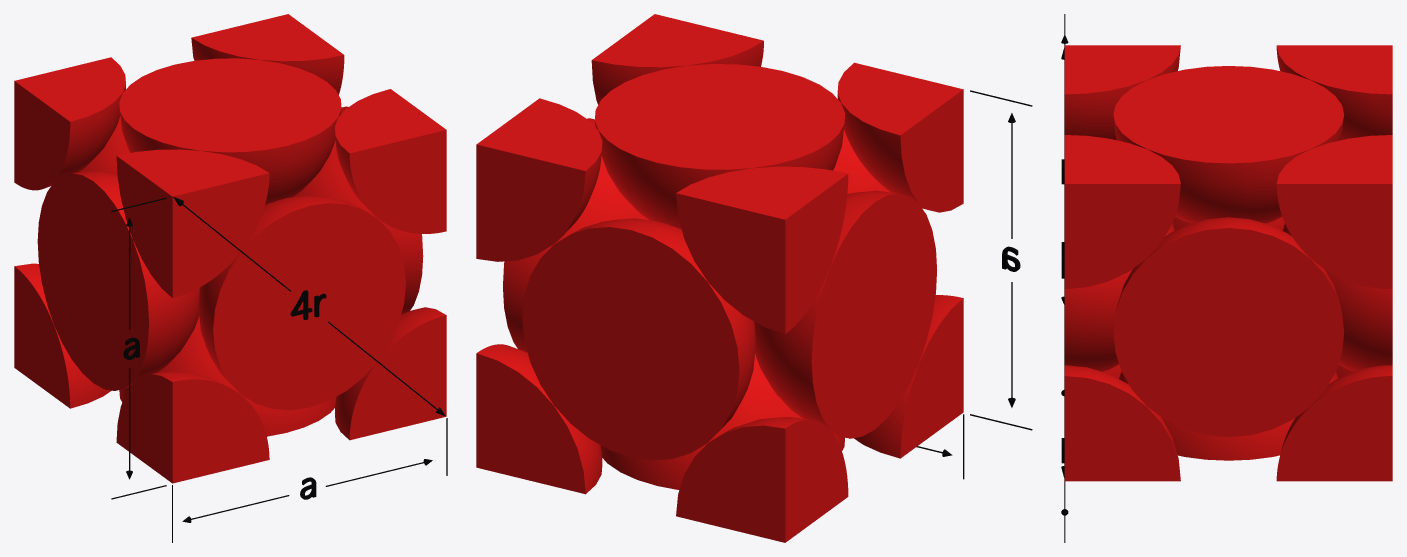
The picture shows the model from 3 angles, left to right: view 1: azimuth 30°, elevation 25°; view 2: azimuth 150°, elevation 25°; view 3: azimuth 270°, elevation 25°; orthographic projection. The views are drawn at different scales.
Parts seen in each view (by area): view 1: Sphere308, Sphere313, Sphere314, Sphere312, Sphere310, Sphere309, Sphere321, Sphere311, Sphere320, Sphere318, Sphere316, Sphere317 (+1 smaller); view 2: Sphere315, Sphere313, Sphere314, Sphere321, Sphere320, Sphere318, Sphere312, Sphere319, Sphere310, Sphere309, Sphere316, Sphere317 (+1 smaller); view 3: Sphere317, Sphere314, Sphere309, Sphere318, Sphere311, Sphere319, Sphere312, Sphere321, Sphere308, Sphere315, Sphere316.
Boxes of the visible parts, <box> form: Sphere308: <box>198,195,405,410</box>; Sphere313: <box>37,171,199,390</box>; Sphere314: <box>119,58,341,204</box>; Sphere312: <box>116,149,269,298</box>; Sphere310: <box>116,371,269,483</box>; Sphere309: <box>335,89,446,233</box>; Sphere321: <box>14,57,125,190</box>; Sphere311: <box>335,307,446,440</box>; Sphere320: <box>14,263,111,408</box>; Sphere318: <box>191,14,344,94</box>; Sphere316: <box>119,316,336,436</box>; Sphere317: <box>293,106,423,313</box>; Sphere315: <box>522,218,755,460</box>; Sphere313: <box>754,190,936,438</box>; Sphere314: <box>594,64,845,228</box>; Sphere321: <box>676,166,848,333</box>; Sphere320: <box>676,416,848,542</box>; Sphere318: <box>476,98,602,261</box>; Sphere312: <box>837,62,963,212</box>; Sphere319: <box>476,344,602,494</box>; Sphere310: <box>854,295,963,458</box>; Sphere309: <box>591,14,763,104</box>; Sphere316: <box>600,353,844,489</box>; Sphere317: <box>503,118,649,352</box>; Sphere317: <box>1113,217,1344,437</box>; Sphere314: <box>1113,66,1344,223</box>; Sphere309: <box>1064,135,1180,288</box>; Sphere318: <box>1276,135,1392,289</box>; Sphere311: <box>1064,365,1180,481</box>; Sphere319: <box>1276,365,1392,481</box>; Sphere312: <box>1064,45,1180,140</box>; Sphere321: <box>1276,45,1392,140</box>; Sphere308: <box>1064,223,1174,371</box>; Sphere315: <box>1282,223,1392,371</box>; Sphere316: <box>1119,371,1338,460</box>.
Size of the model in its own units: 61.29 by 60.4 by 50.55.
Materials: 1 (1 with a texture image).
